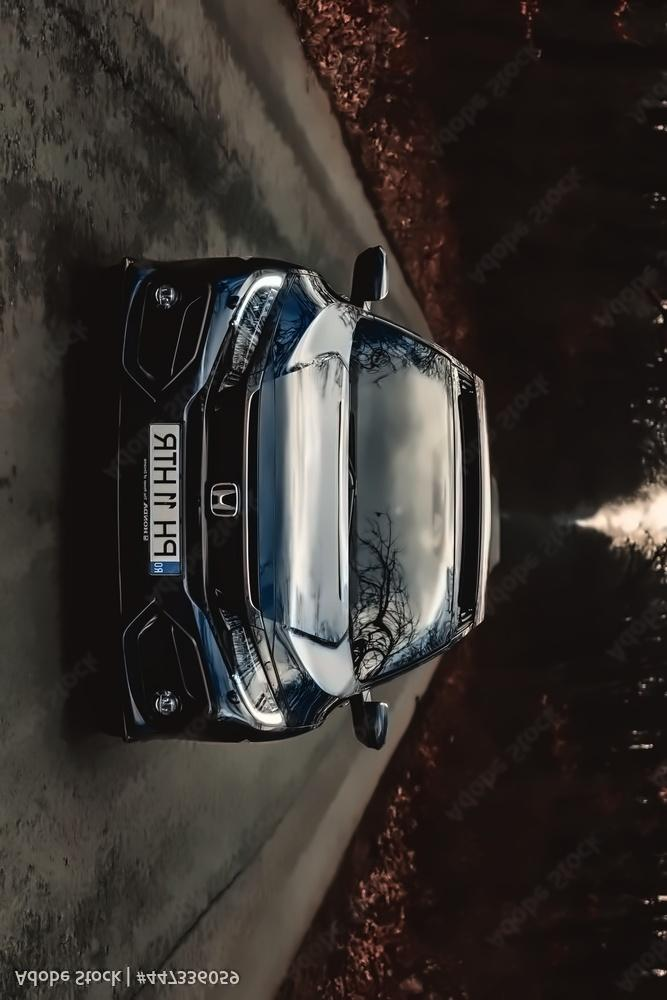Car hood: (239, 298, 355, 679)
Front bumper: (90, 252, 241, 747)
Headlight - -L-: (217, 606, 286, 731)
Headlight - -R-: (207, 268, 285, 401)
Side mirror - -L-: (345, 688, 391, 749)
Side mirror - -R-: (346, 242, 395, 321)
